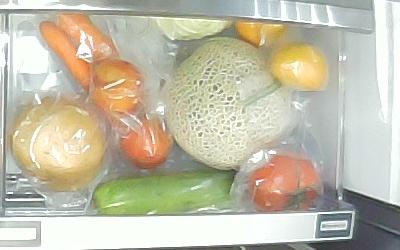carrot: (39, 21, 95, 91), (57, 13, 120, 60)
melon: (161, 37, 291, 171)
pear_vinyl: (10, 96, 107, 192)
prune_vinyl: (90, 59, 145, 117), (119, 117, 172, 169)
tangerine_vinyl: (269, 42, 329, 91), (235, 22, 287, 46)
tomato_vinyl: (248, 153, 321, 212)
zucchini_vinyl: (91, 172, 238, 217)
